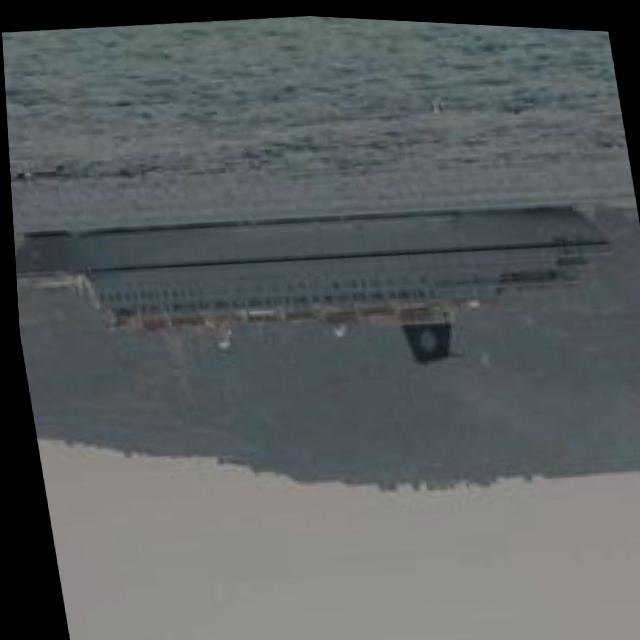ship2: (12, 196, 611, 404)
